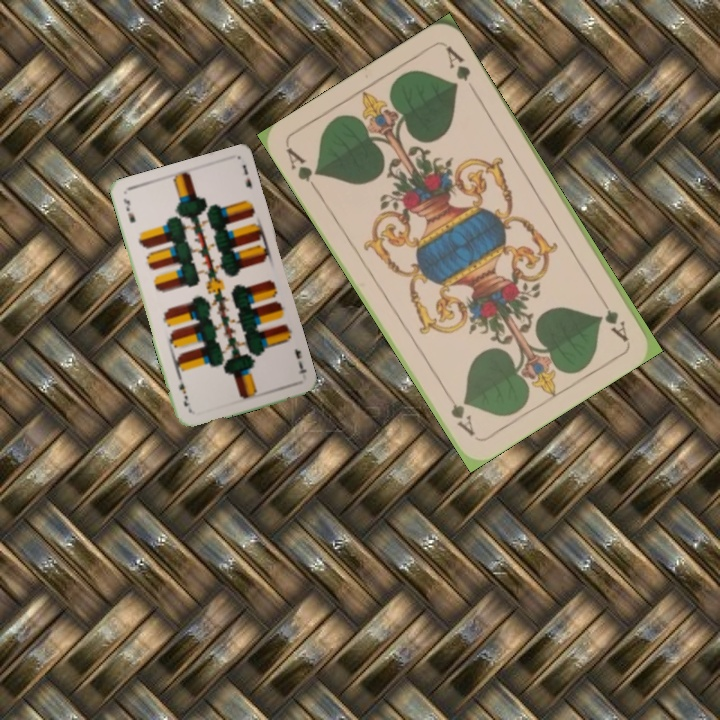E7: (290, 344, 309, 376), (119, 194, 138, 225)
GA: (282, 143, 323, 196), (593, 290, 631, 344)
